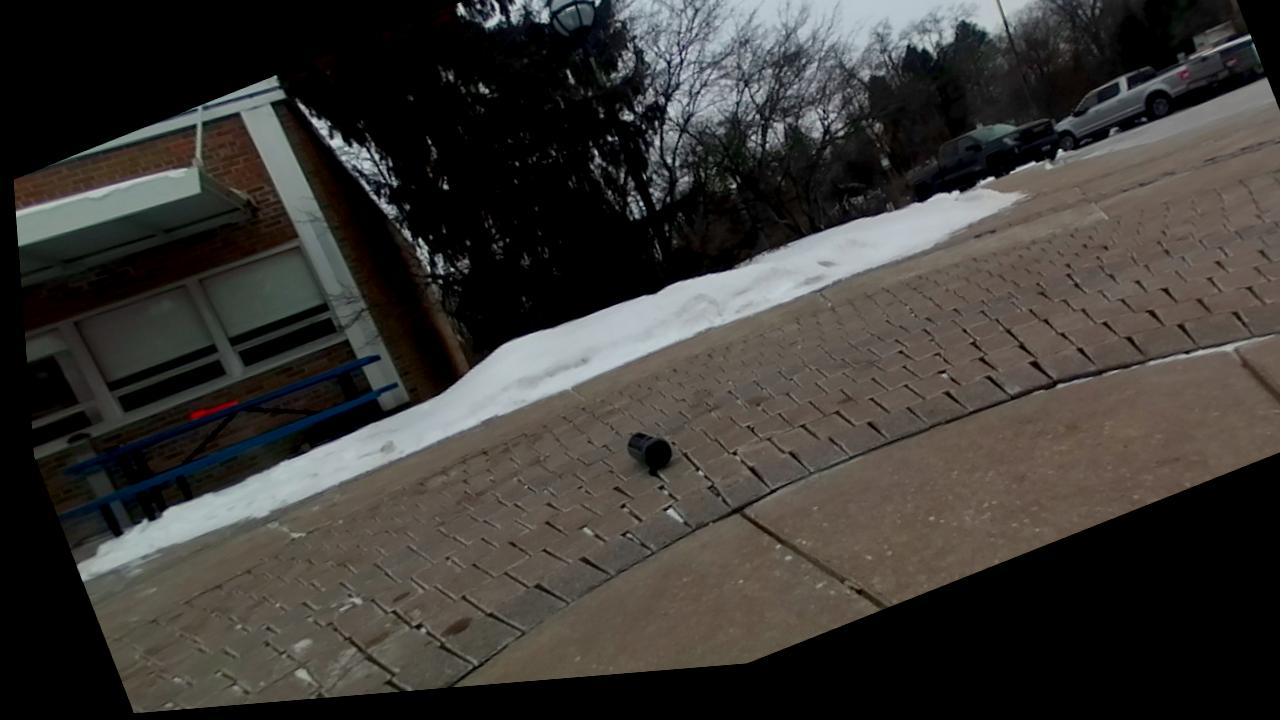bottle: (626, 432, 672, 475)
